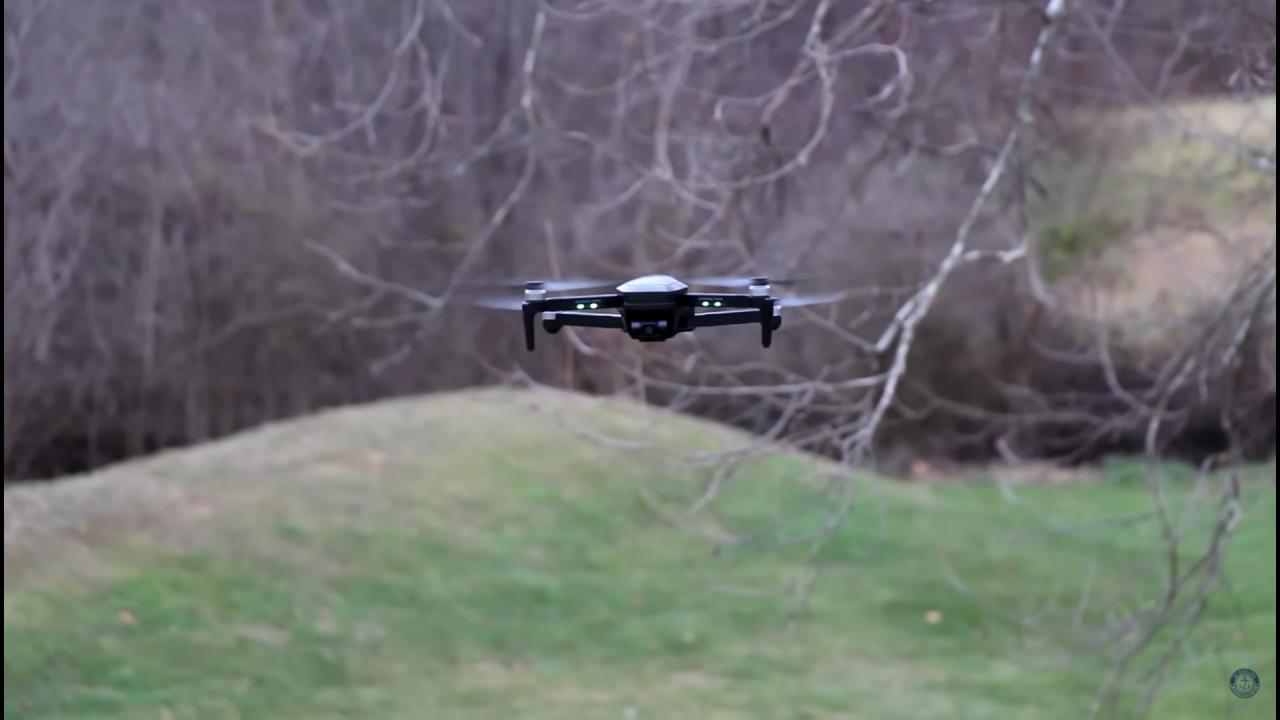Drone: (432, 243, 870, 367)
